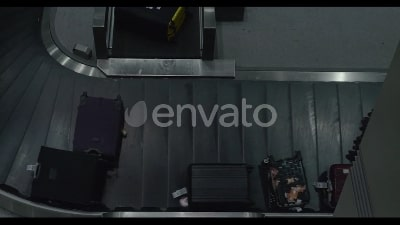baggage: (27, 148, 112, 212), (71, 90, 128, 161), (175, 166, 257, 212), (261, 151, 312, 211)
